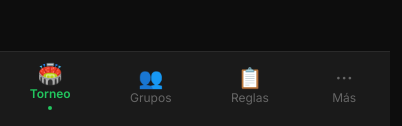
Test case: BottomNav › al hacer click en Más, muestra el sheet con Salir
Click the text "Más": click(344, 98) [332,90,356,106]
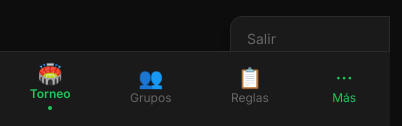
Now the button "Salir" is shown, box [231,17,389,61]
